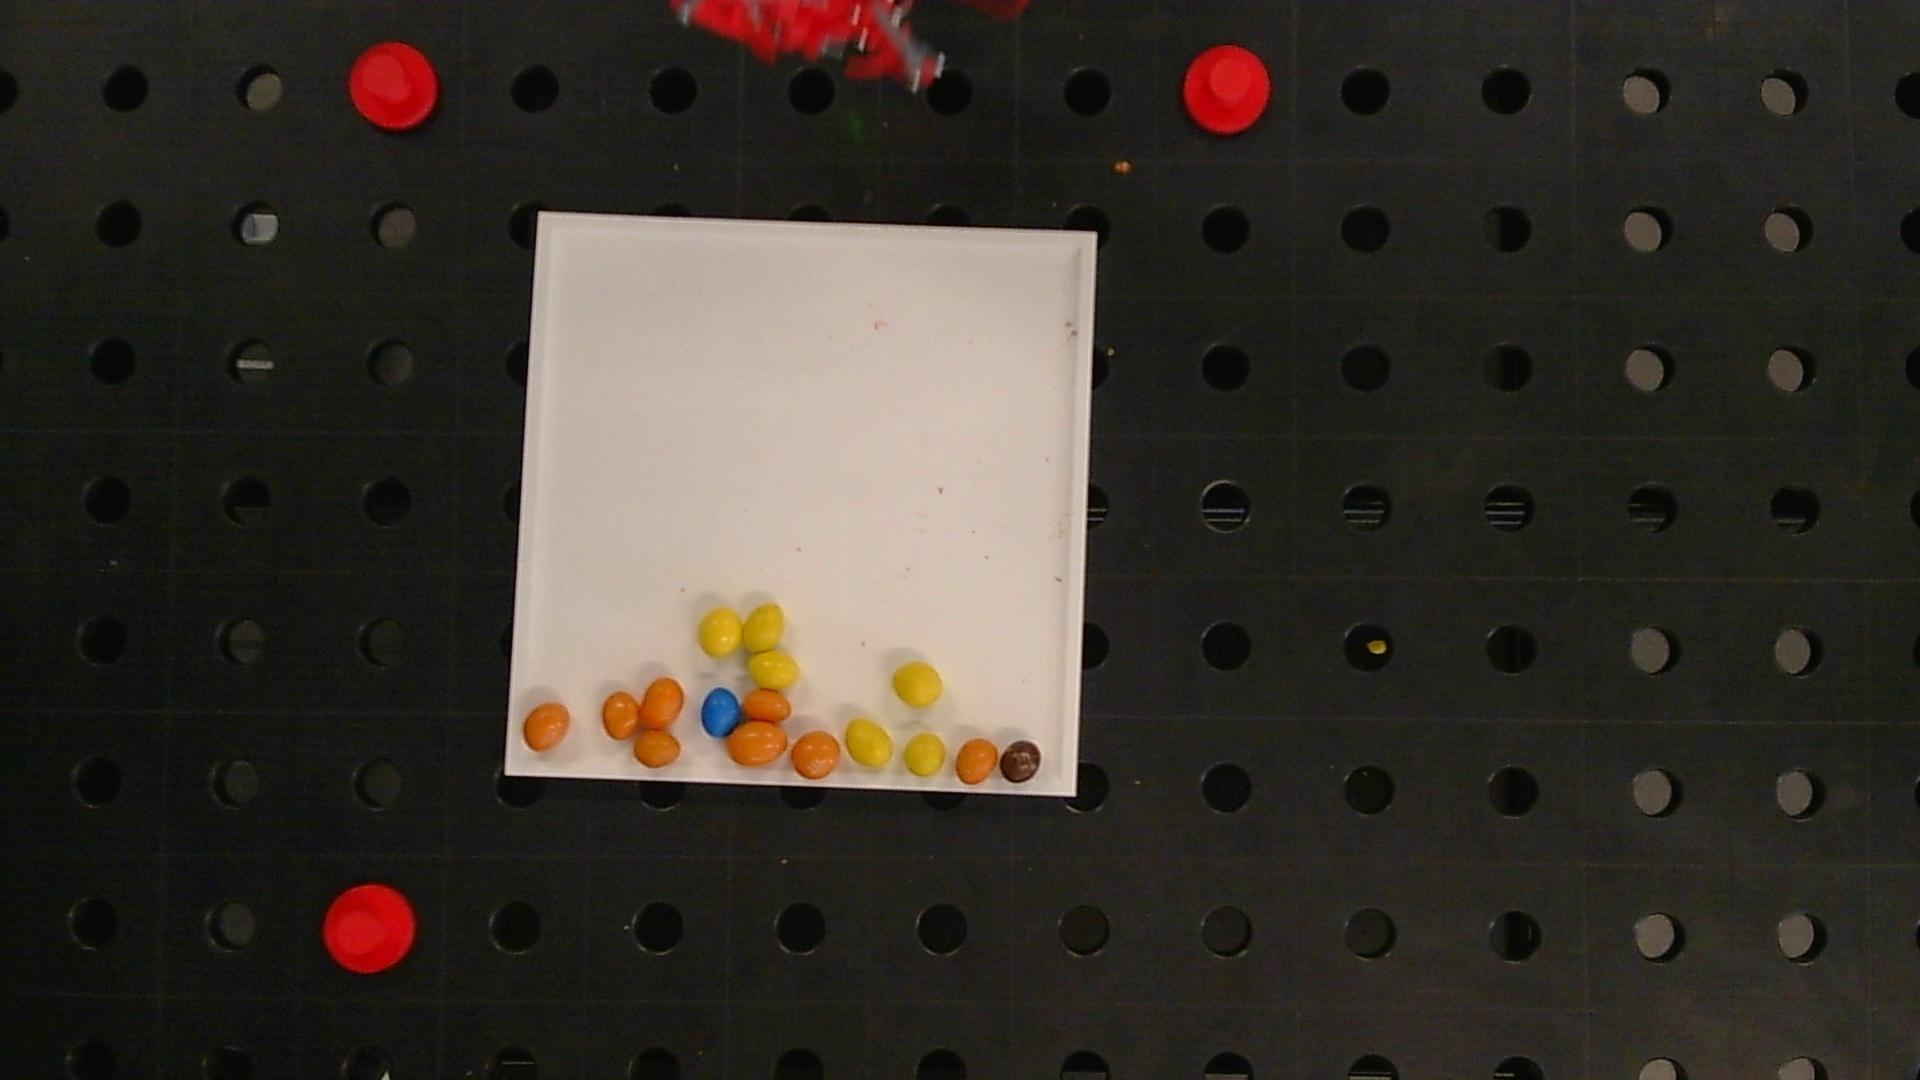blue: (700, 687, 741, 737)
brown: (998, 740, 1042, 783)
orange: (727, 721, 789, 765), (791, 731, 840, 779), (522, 703, 570, 750), (641, 676, 683, 729), (956, 737, 998, 783), (603, 691, 640, 738), (634, 732, 680, 767), (741, 690, 791, 721)
yellow: (893, 662, 944, 707), (845, 719, 893, 766), (699, 608, 742, 655), (742, 604, 785, 653), (750, 651, 799, 690), (905, 733, 945, 775)
